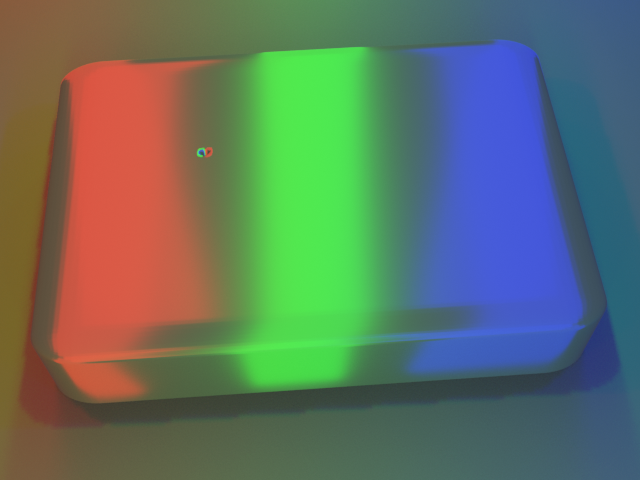dent: (174, 128, 211, 169)
